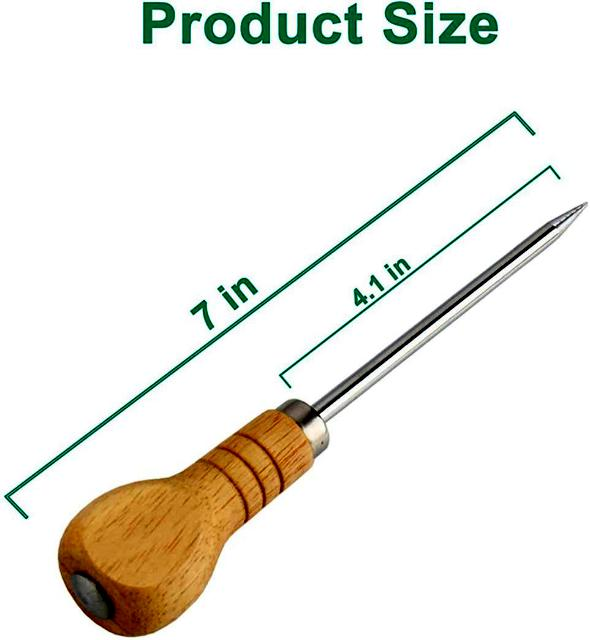ice pick: (57, 200, 590, 637)
